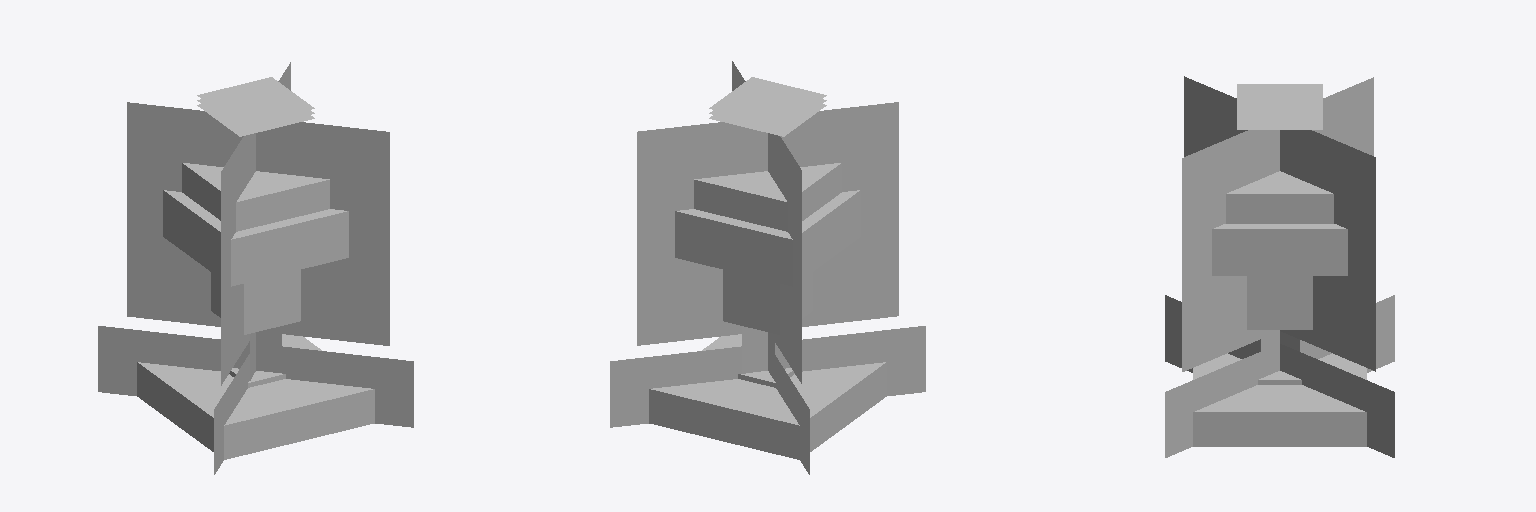
The model's file is nuke.obj.
3 views of the same model, side by side, from view 1: azimuth 30°, elevation 25°; view 2: azimuth 150°, elevation 25°; view 3: azimuth 270°, elevation 25° (orthographic).
Parts seen in each view (by area): view 1: cube; view 2: cube; view 3: cube.
Part boxes in pixels (x1,y1,x2,y2): cube: (98,62,413,474); cube: (610,61,925,474); cube: (1165,76,1394,457).
Size of the model in its own units: 5.3 by 7.81 by 5.3.